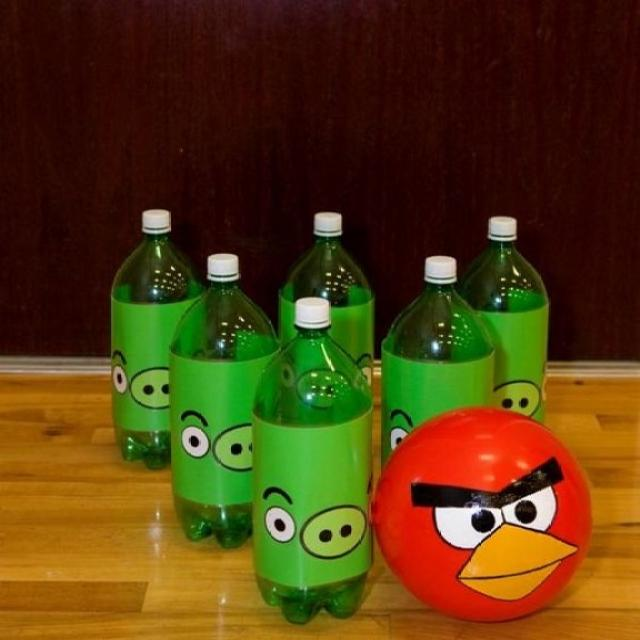plastic_bottle: (167, 252, 281, 548)
